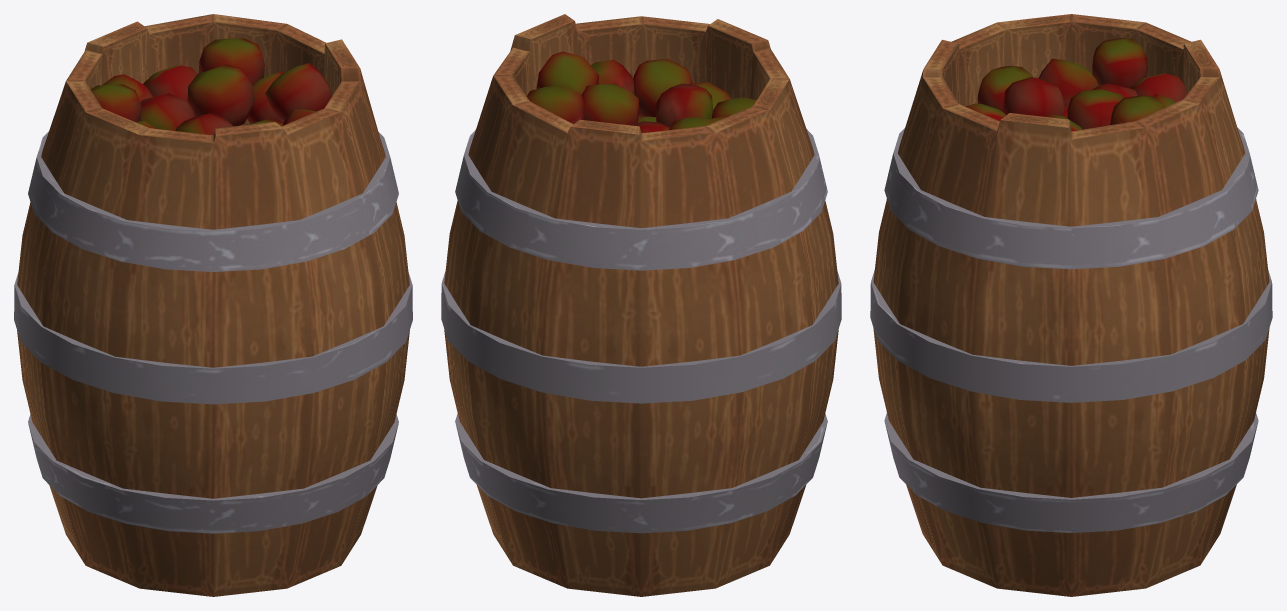
The model's file is Barrel_Apples.gltf.
3 views of the same model, side by side, from view 1: azimuth 30°, elevation 25°; view 2: azimuth 150°, elevation 25°; view 3: azimuth 270°, elevation 25° (orthographic).
Parts seen in each view (by area): view 1: Barrel_Apples; view 2: Barrel_Apples; view 3: Barrel_Apples.
Boxes of the visible parts, x1,y1,x2,y2 form: Barrel_Apples: (14, 14, 412, 596); Barrel_Apples: (441, 14, 841, 596); Barrel_Apples: (870, 14, 1272, 596).
Bounding box in the file's own units: 0.698 × 0.898 × 0.698.
3 materials, 3 textured.
